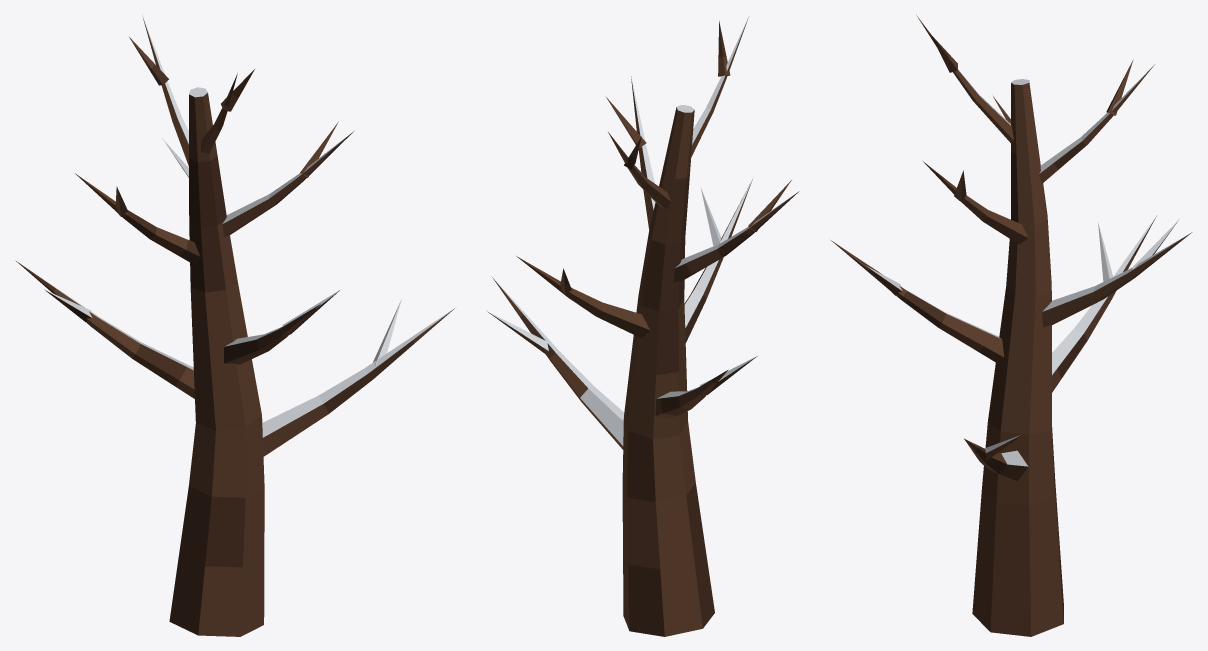
File: Tree_Bare.glb
3 renders of one model, left to right at view 1: azimuth 30°, elevation 25°; view 2: azimuth 150°, elevation 25°; view 3: azimuth 270°, elevation 25°, orthographic. The views are drawn at different scales.
Visible parts, largest first — view 1: Tree_Bare; view 2: Tree_Bare; view 3: Tree_Bare.
Part boxes in pixels (box(x1,y1,x2,y2)): Tree_Bare: box(15, 15, 454, 636); Tree_Bare: box(486, 15, 799, 636); Tree_Bare: box(831, 15, 1192, 636).
Size of the model in its own units: 4.99 by 8.09 by 4.54.
